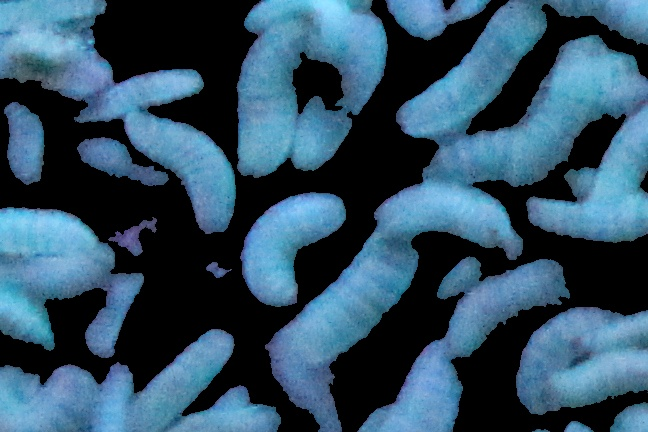larvae: (399, 1, 542, 131), (292, 235, 419, 362), (291, 15, 386, 171), (126, 109, 239, 229), (450, 249, 569, 353), (242, 192, 345, 305), (516, 308, 618, 412), (236, 25, 306, 176), (131, 331, 228, 432), (373, 182, 508, 247), (531, 36, 608, 141), (384, 340, 466, 432), (415, 132, 564, 182), (579, 103, 648, 207), (78, 67, 205, 123), (73, 131, 175, 196), (525, 187, 648, 240), (1, 202, 102, 263), (1, 241, 115, 293), (547, 349, 648, 407), (235, 1, 347, 52), (87, 271, 146, 357), (1, 285, 59, 353), (1, 1, 112, 33), (12, 34, 89, 80), (3, 99, 43, 185), (577, 310, 648, 355), (92, 360, 136, 432), (177, 403, 278, 432), (384, 1, 447, 39)
